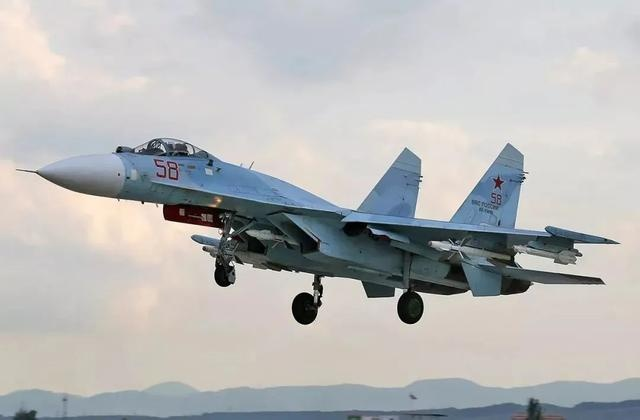airplane: (11, 136, 625, 332)
